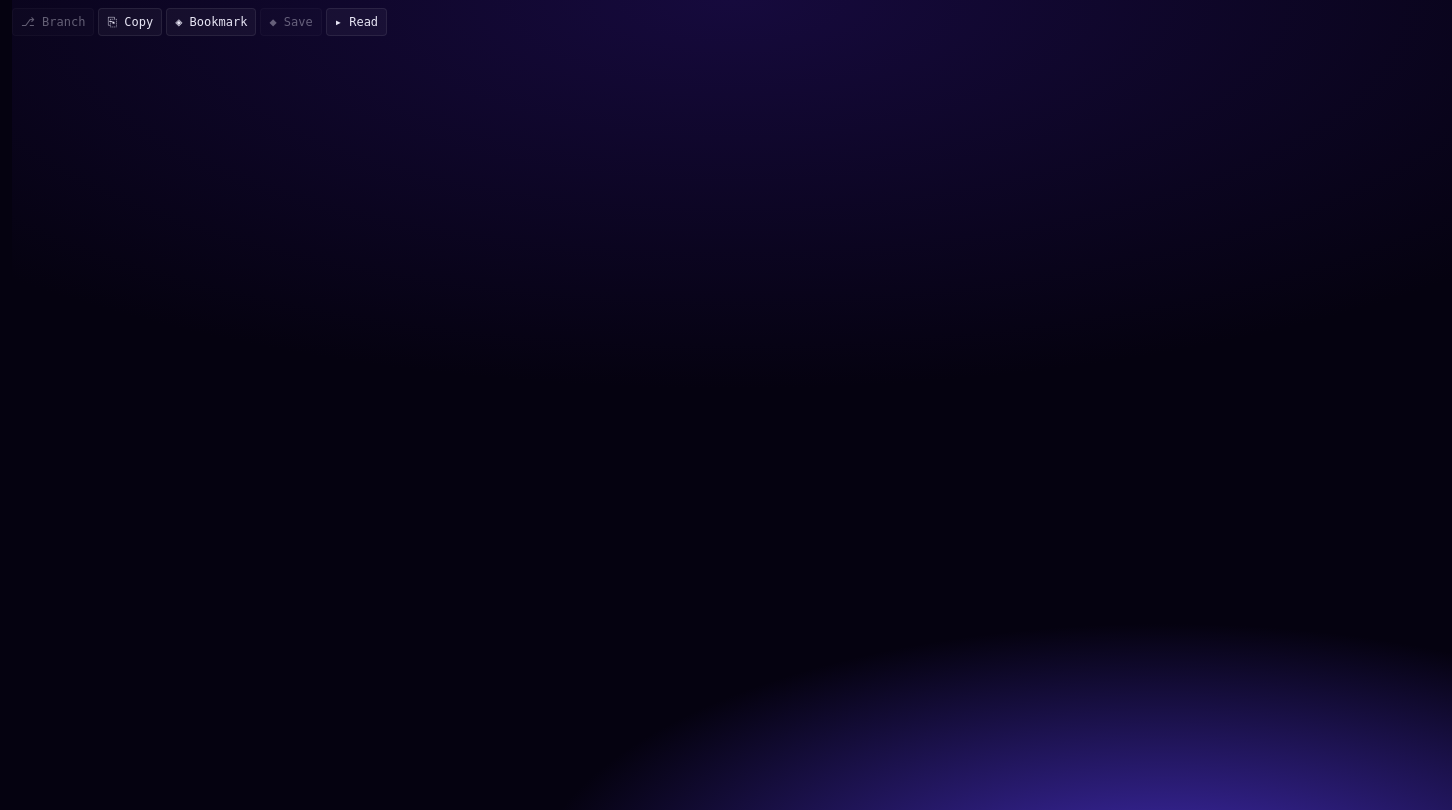
manual read button disabled reason (touch) › reveals the reason inline on tap when disabled (no-provider)
The width and height of the screenshot is (1452, 810).
Expected: the text "provider" is not shown
Click the button "▸ Read" at point(356, 22), box x1=326 y1=8 x2=387 y2=36
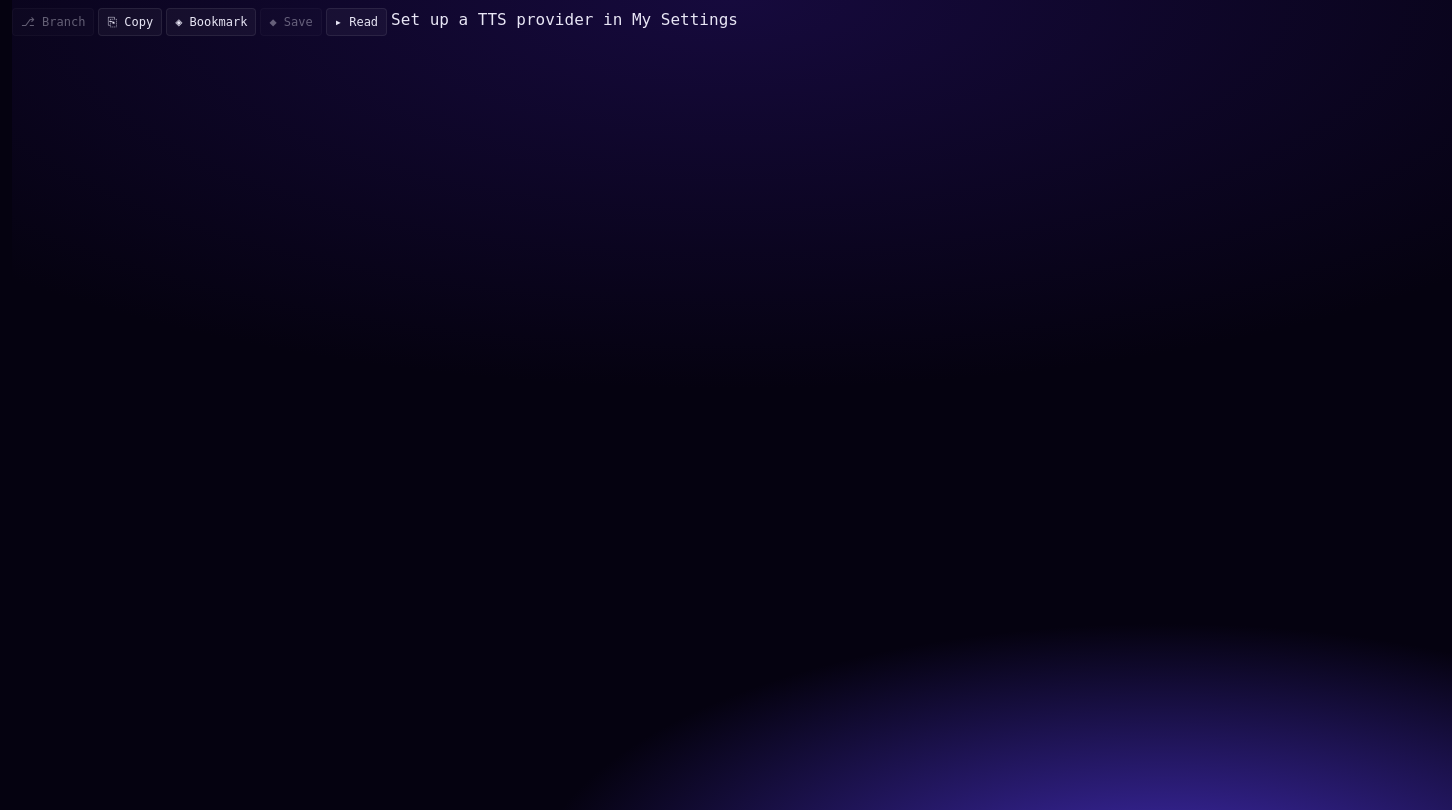
Now the text "Set up a TTS provider in My Settings" is shown, box x1=391 y1=8 x2=738 y2=36
